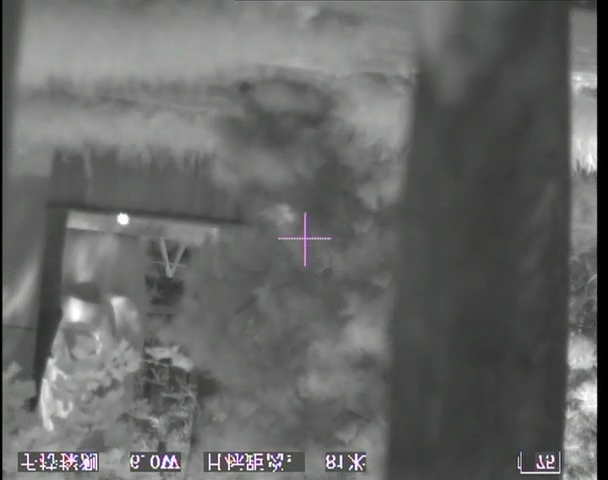my: (116, 211, 131, 226)
